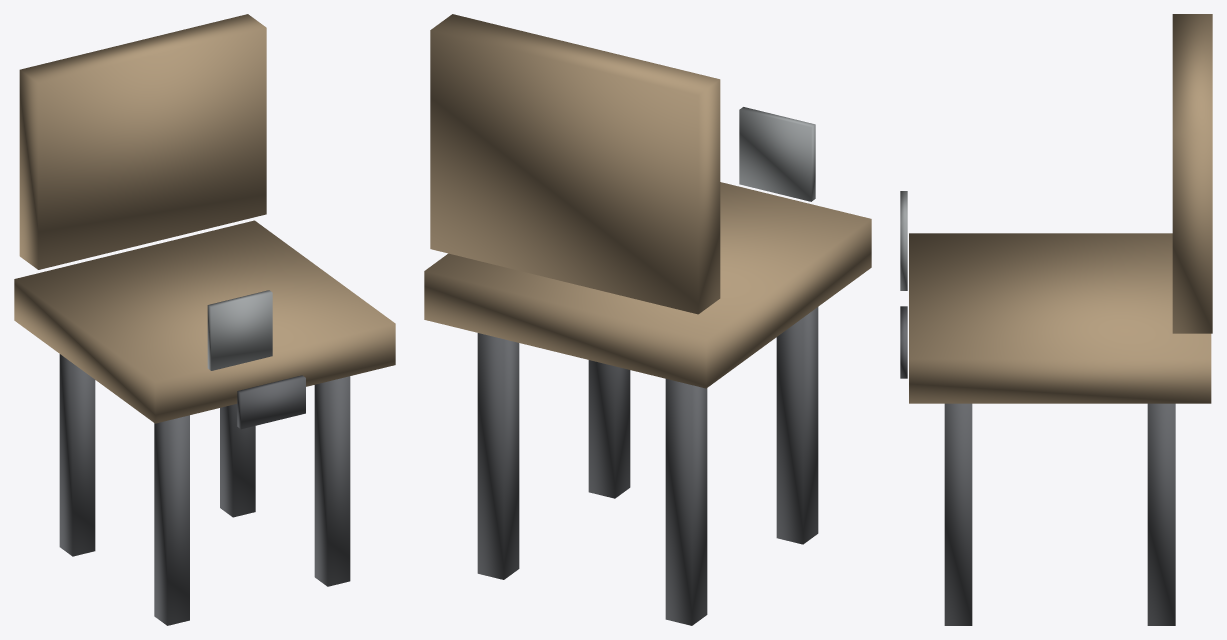
The model's file is school_chair__weathered.glb.
The picture shows the model from 3 angles, left to right: view 1: azimuth 30°, elevation 25°; view 2: azimuth 150°, elevation 25°; view 3: azimuth 270°, elevation 25°; orthographic projection. The views are drawn at different scales.
Visible parts, largest first — view 1: world; view 2: world; view 3: world.
Boxes of the visible parts, left/top/right/bottom form: world: left=14, top=14, right=395, bottom=625; world: left=424, top=14, right=871, bottom=625; world: left=900, top=14, right=1212, bottom=625.
Bounding box in the file's own units: 0.4803 × 0.8981 × 0.5044.
